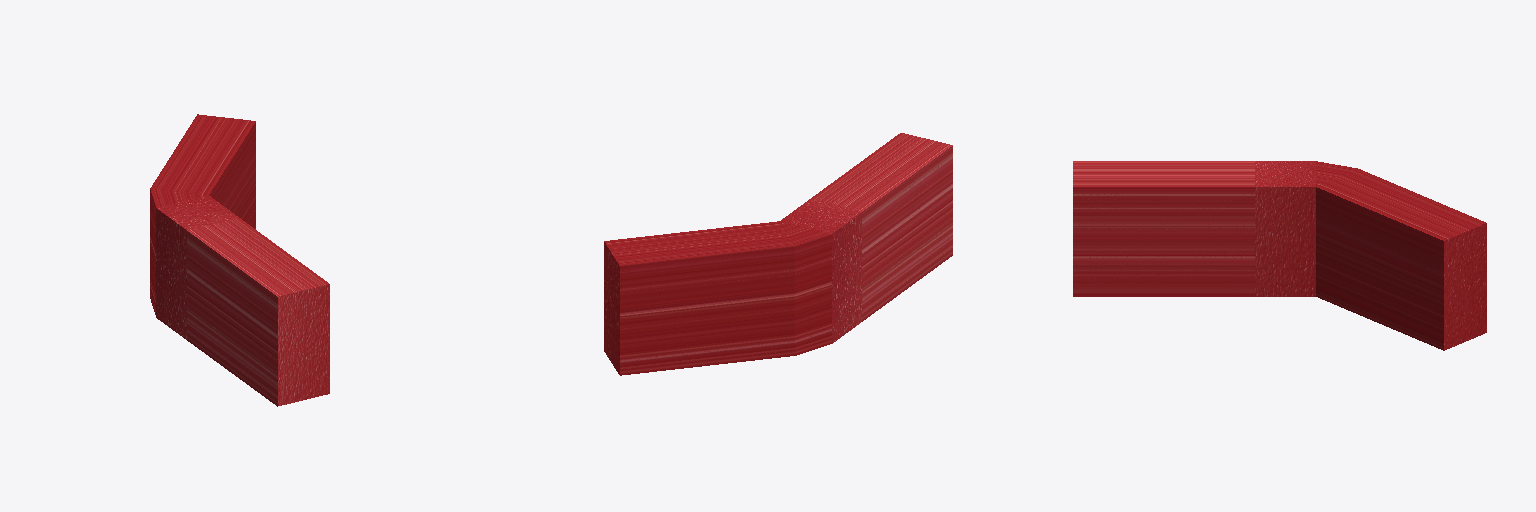
3 views of the same model, side by side, from view 1: azimuth 30°, elevation 25°; view 2: azimuth 150°, elevation 25°; view 3: azimuth 270°, elevation 25° (orthographic).
Parts seen in each view (by area): view 1: pCube1; view 2: pCube1; view 3: pCube1.
Part boxes in pixels (x1,y1,x2,y2): pCube1: (150, 114, 329, 406); pCube1: (604, 133, 952, 375); pCube1: (1073, 161, 1486, 350).
Bounding box in the file's own units: 1.56 × 1 × 3.41.
Materials: 1 (1 with a texture image).